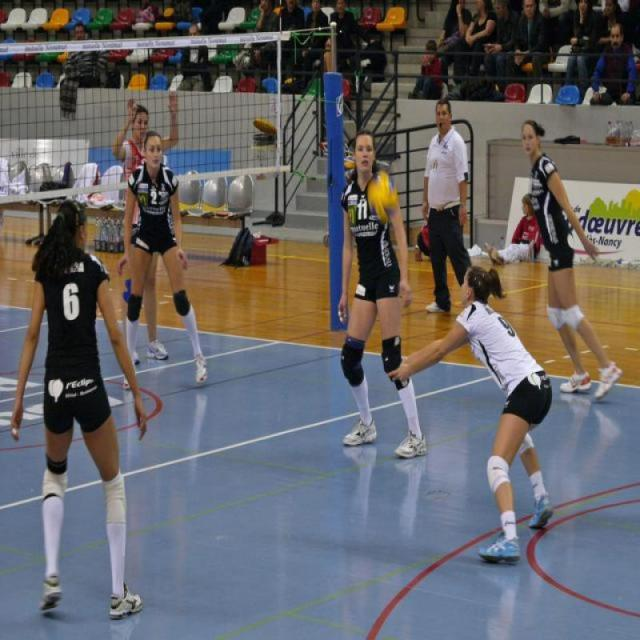volleyball: (366, 170, 400, 223)
